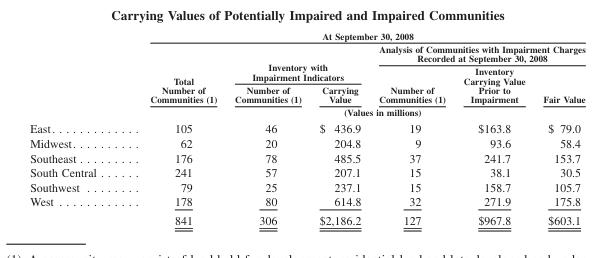table: (29, 28, 584, 227)
table column: (122, 28, 225, 227), (29, 28, 122, 227), (225, 28, 309, 227), (369, 28, 453, 227), (453, 28, 533, 227), (309, 28, 369, 227), (533, 28, 584, 227)
table column header: (29, 28, 584, 119)
table row: (29, 41, 584, 64), (29, 82, 584, 105), (29, 64, 584, 82), (29, 209, 584, 227), (29, 119, 584, 135), (29, 193, 584, 209), (29, 149, 584, 164), (29, 178, 584, 193), (29, 105, 584, 119), (29, 135, 584, 149), (29, 164, 584, 178), (29, 28, 584, 41)
table spanning cell: (122, 41, 225, 119), (122, 28, 584, 41), (225, 41, 369, 82), (369, 41, 584, 64), (453, 64, 533, 119), (369, 64, 453, 105), (225, 82, 309, 119), (533, 64, 584, 119), (309, 105, 453, 119)
